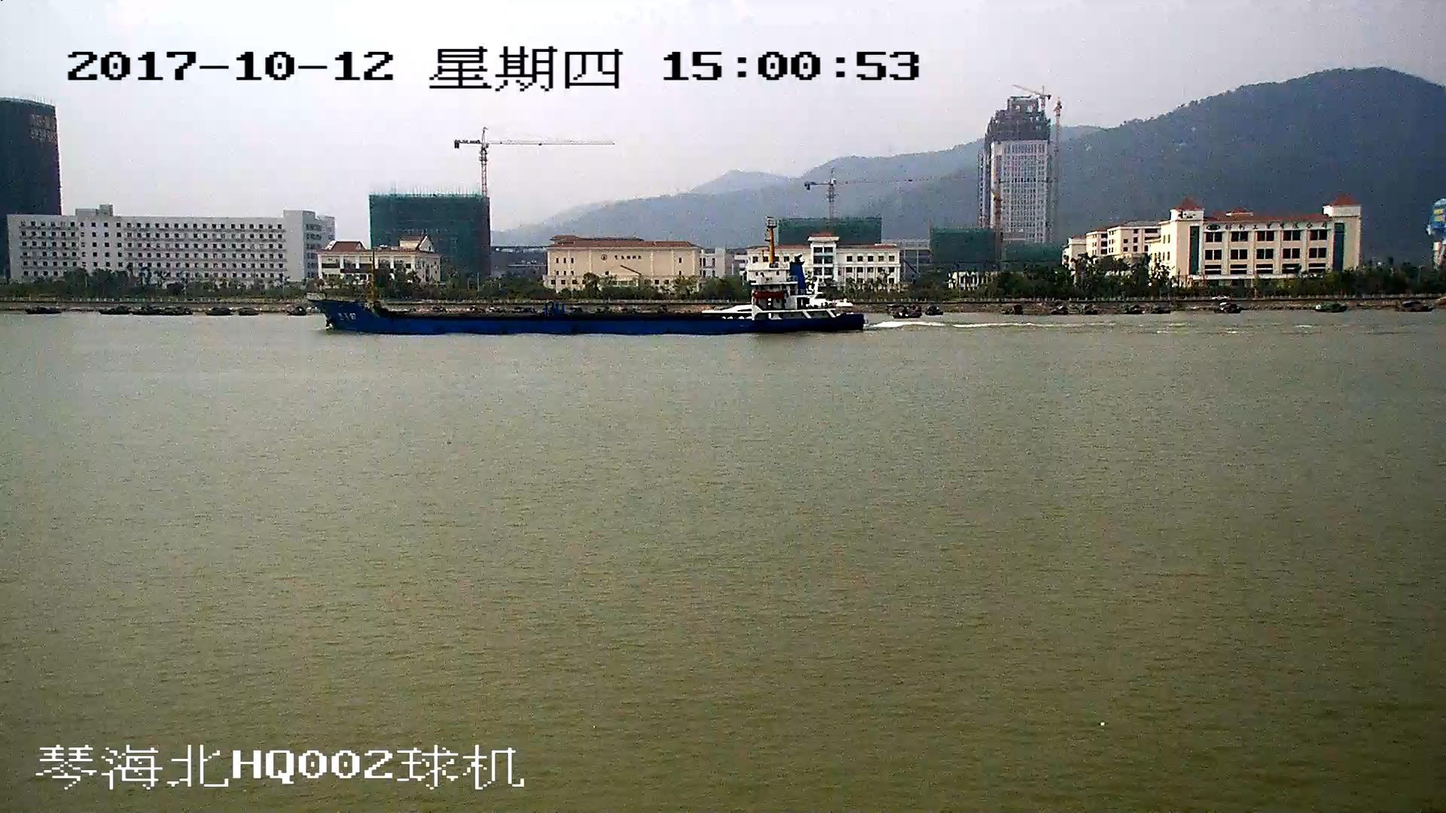general cargo ship: (310, 223, 860, 334)
